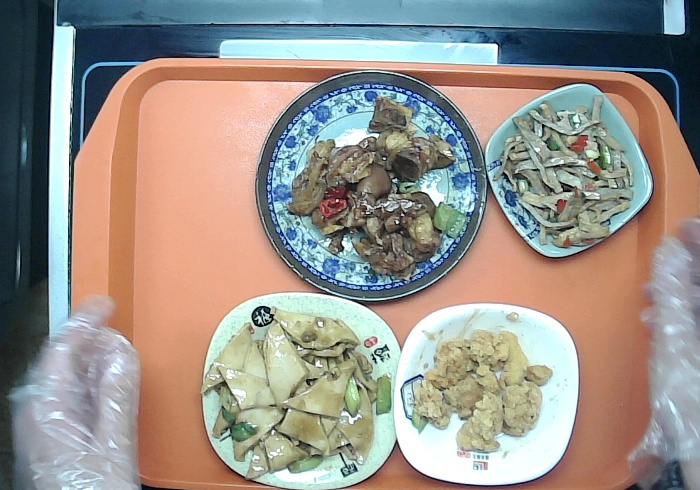NLDX-Bai_Se_Xiao_Fang_Die: (386, 298, 581, 486)
NLDX-Fu_Zi_Fang_Die: (202, 287, 404, 486)
NLDX-Qing_Hua_Xiao_Fang_Die: (477, 80, 657, 272)
NLDX-Qing_Hua_Yuan_Die: (253, 67, 492, 304)
